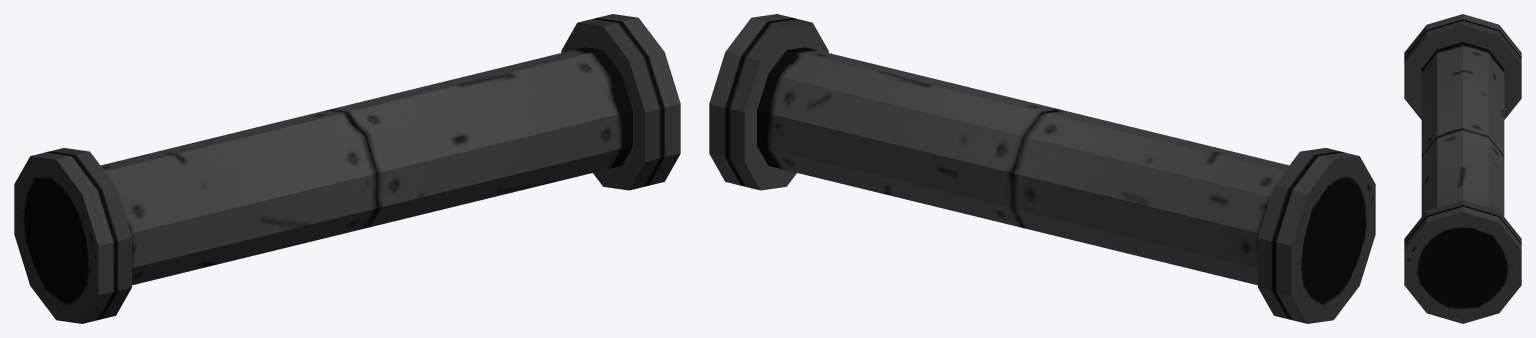
The model's file is mod_prop_pipe_horizontal01.fbx.
3 views of the same model, side by side, from view 1: azimuth 30°, elevation 25°; view 2: azimuth 150°, elevation 25°; view 3: azimuth 270°, elevation 25° (orthographic). The views are drawn at different scales.
Visible parts, largest first — view 1: mod_prop_pipe_horizontal01; view 2: mod_prop_pipe_horizontal01; view 3: mod_prop_pipe_horizontal01.
Boxes of the visible parts, x1,y1,x2,y2 form: mod_prop_pipe_horizontal01: (14,14,680,323); mod_prop_pipe_horizontal01: (709,14,1375,323); mod_prop_pipe_horizontal01: (1404,14,1521,323).
Size of the model in its own units: 136 by 35.84 by 34.09.
